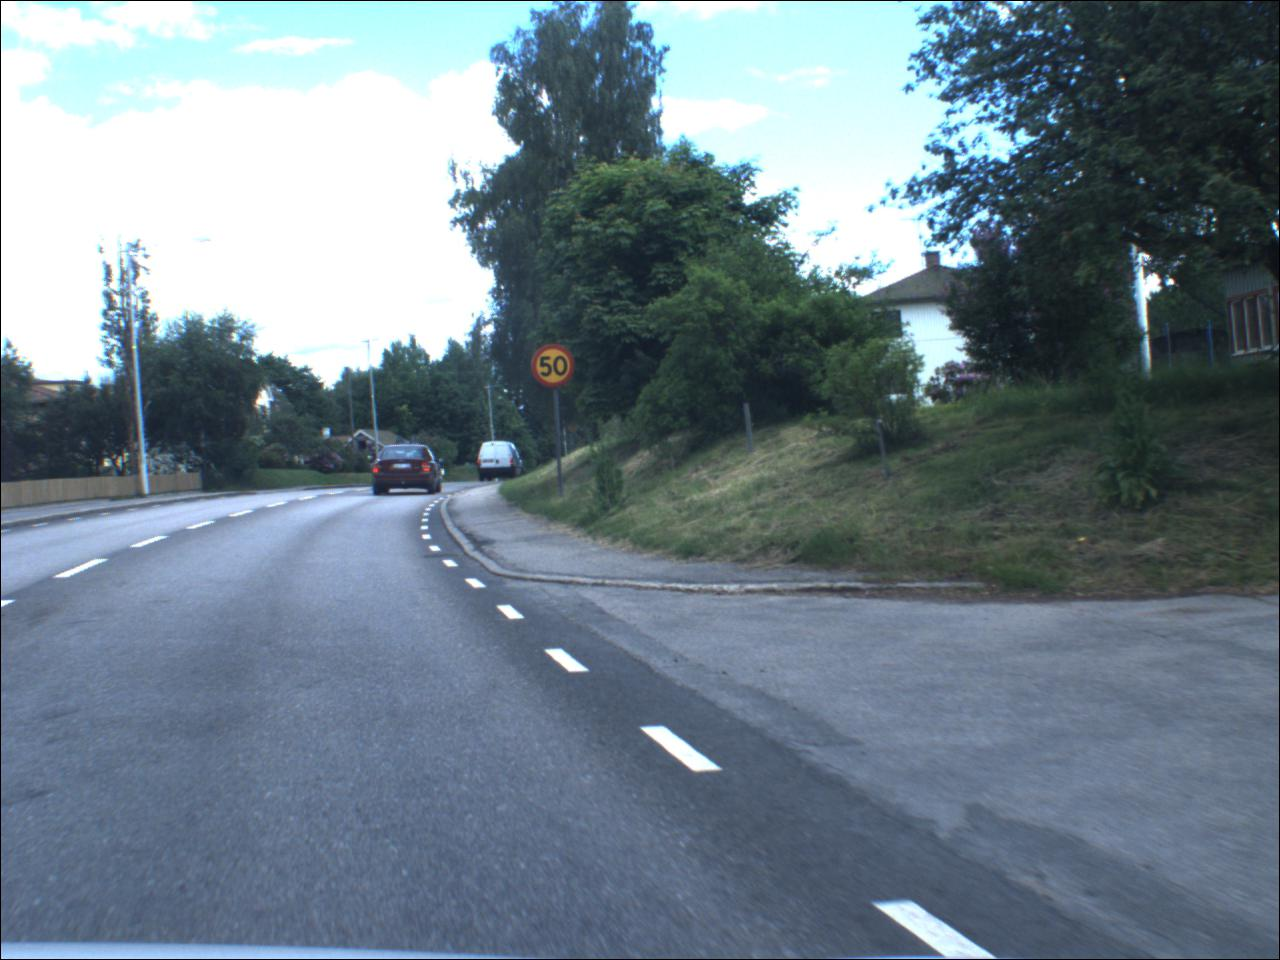50_SIGN: (531, 346, 579, 392)
